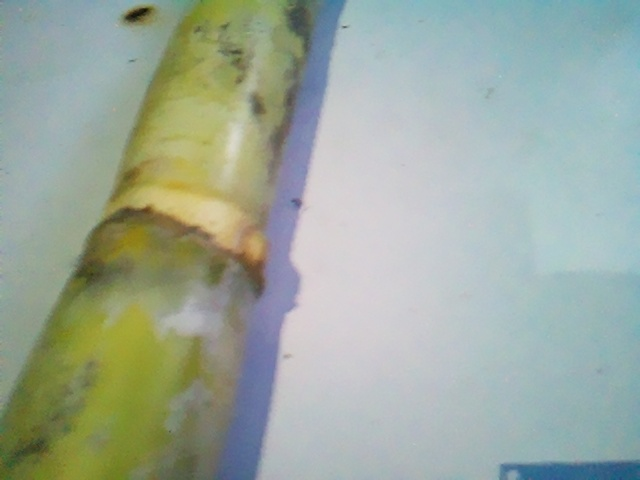Good Sugarcane: (0, 5, 320, 480)
Node: (72, 179, 272, 291)
